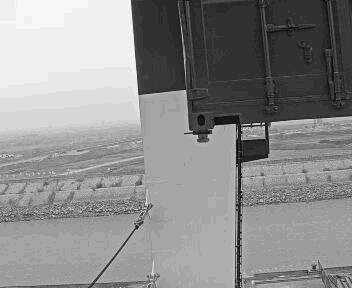twist_lock_1: (189, 122, 211, 147)
